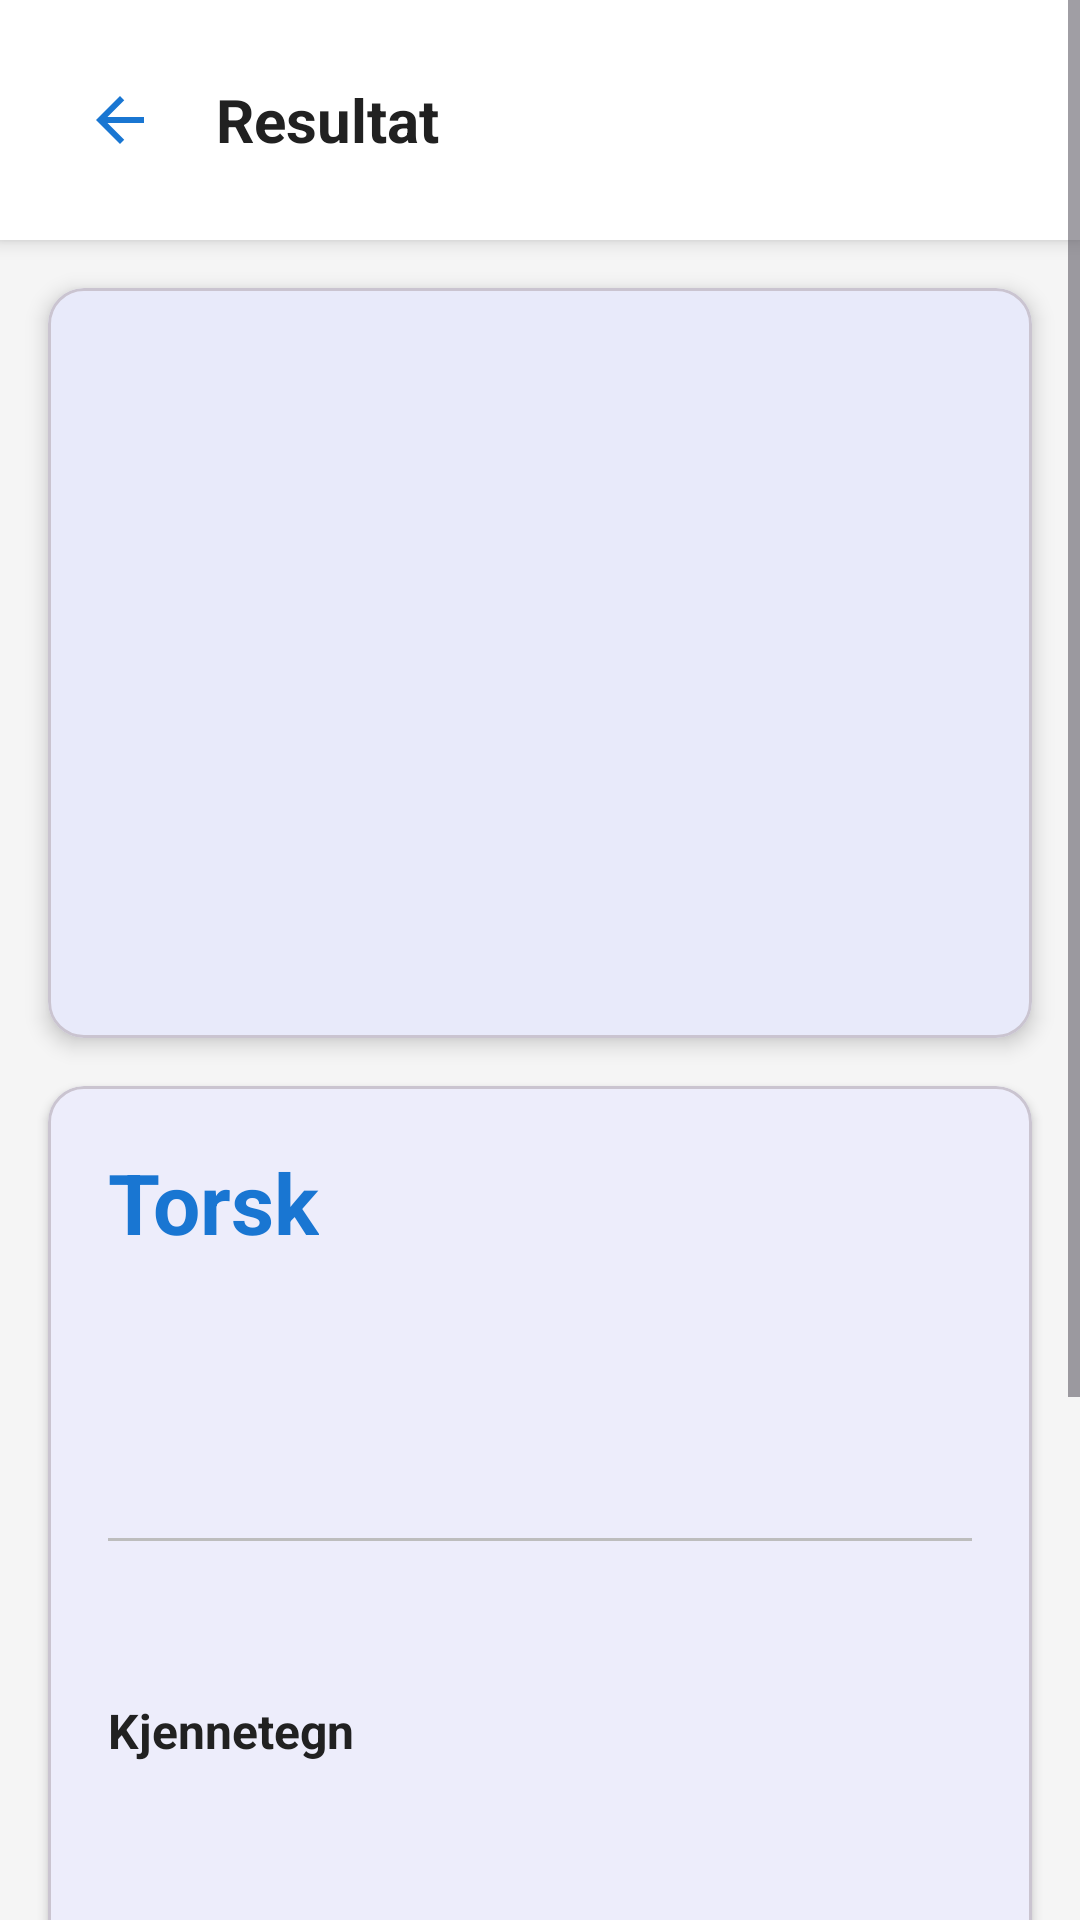

Screen size 1080px×1920px. Icon name, then its box in pixels as (x1,y1,x2,y2):
Tilbake: (96,96,144,144)
